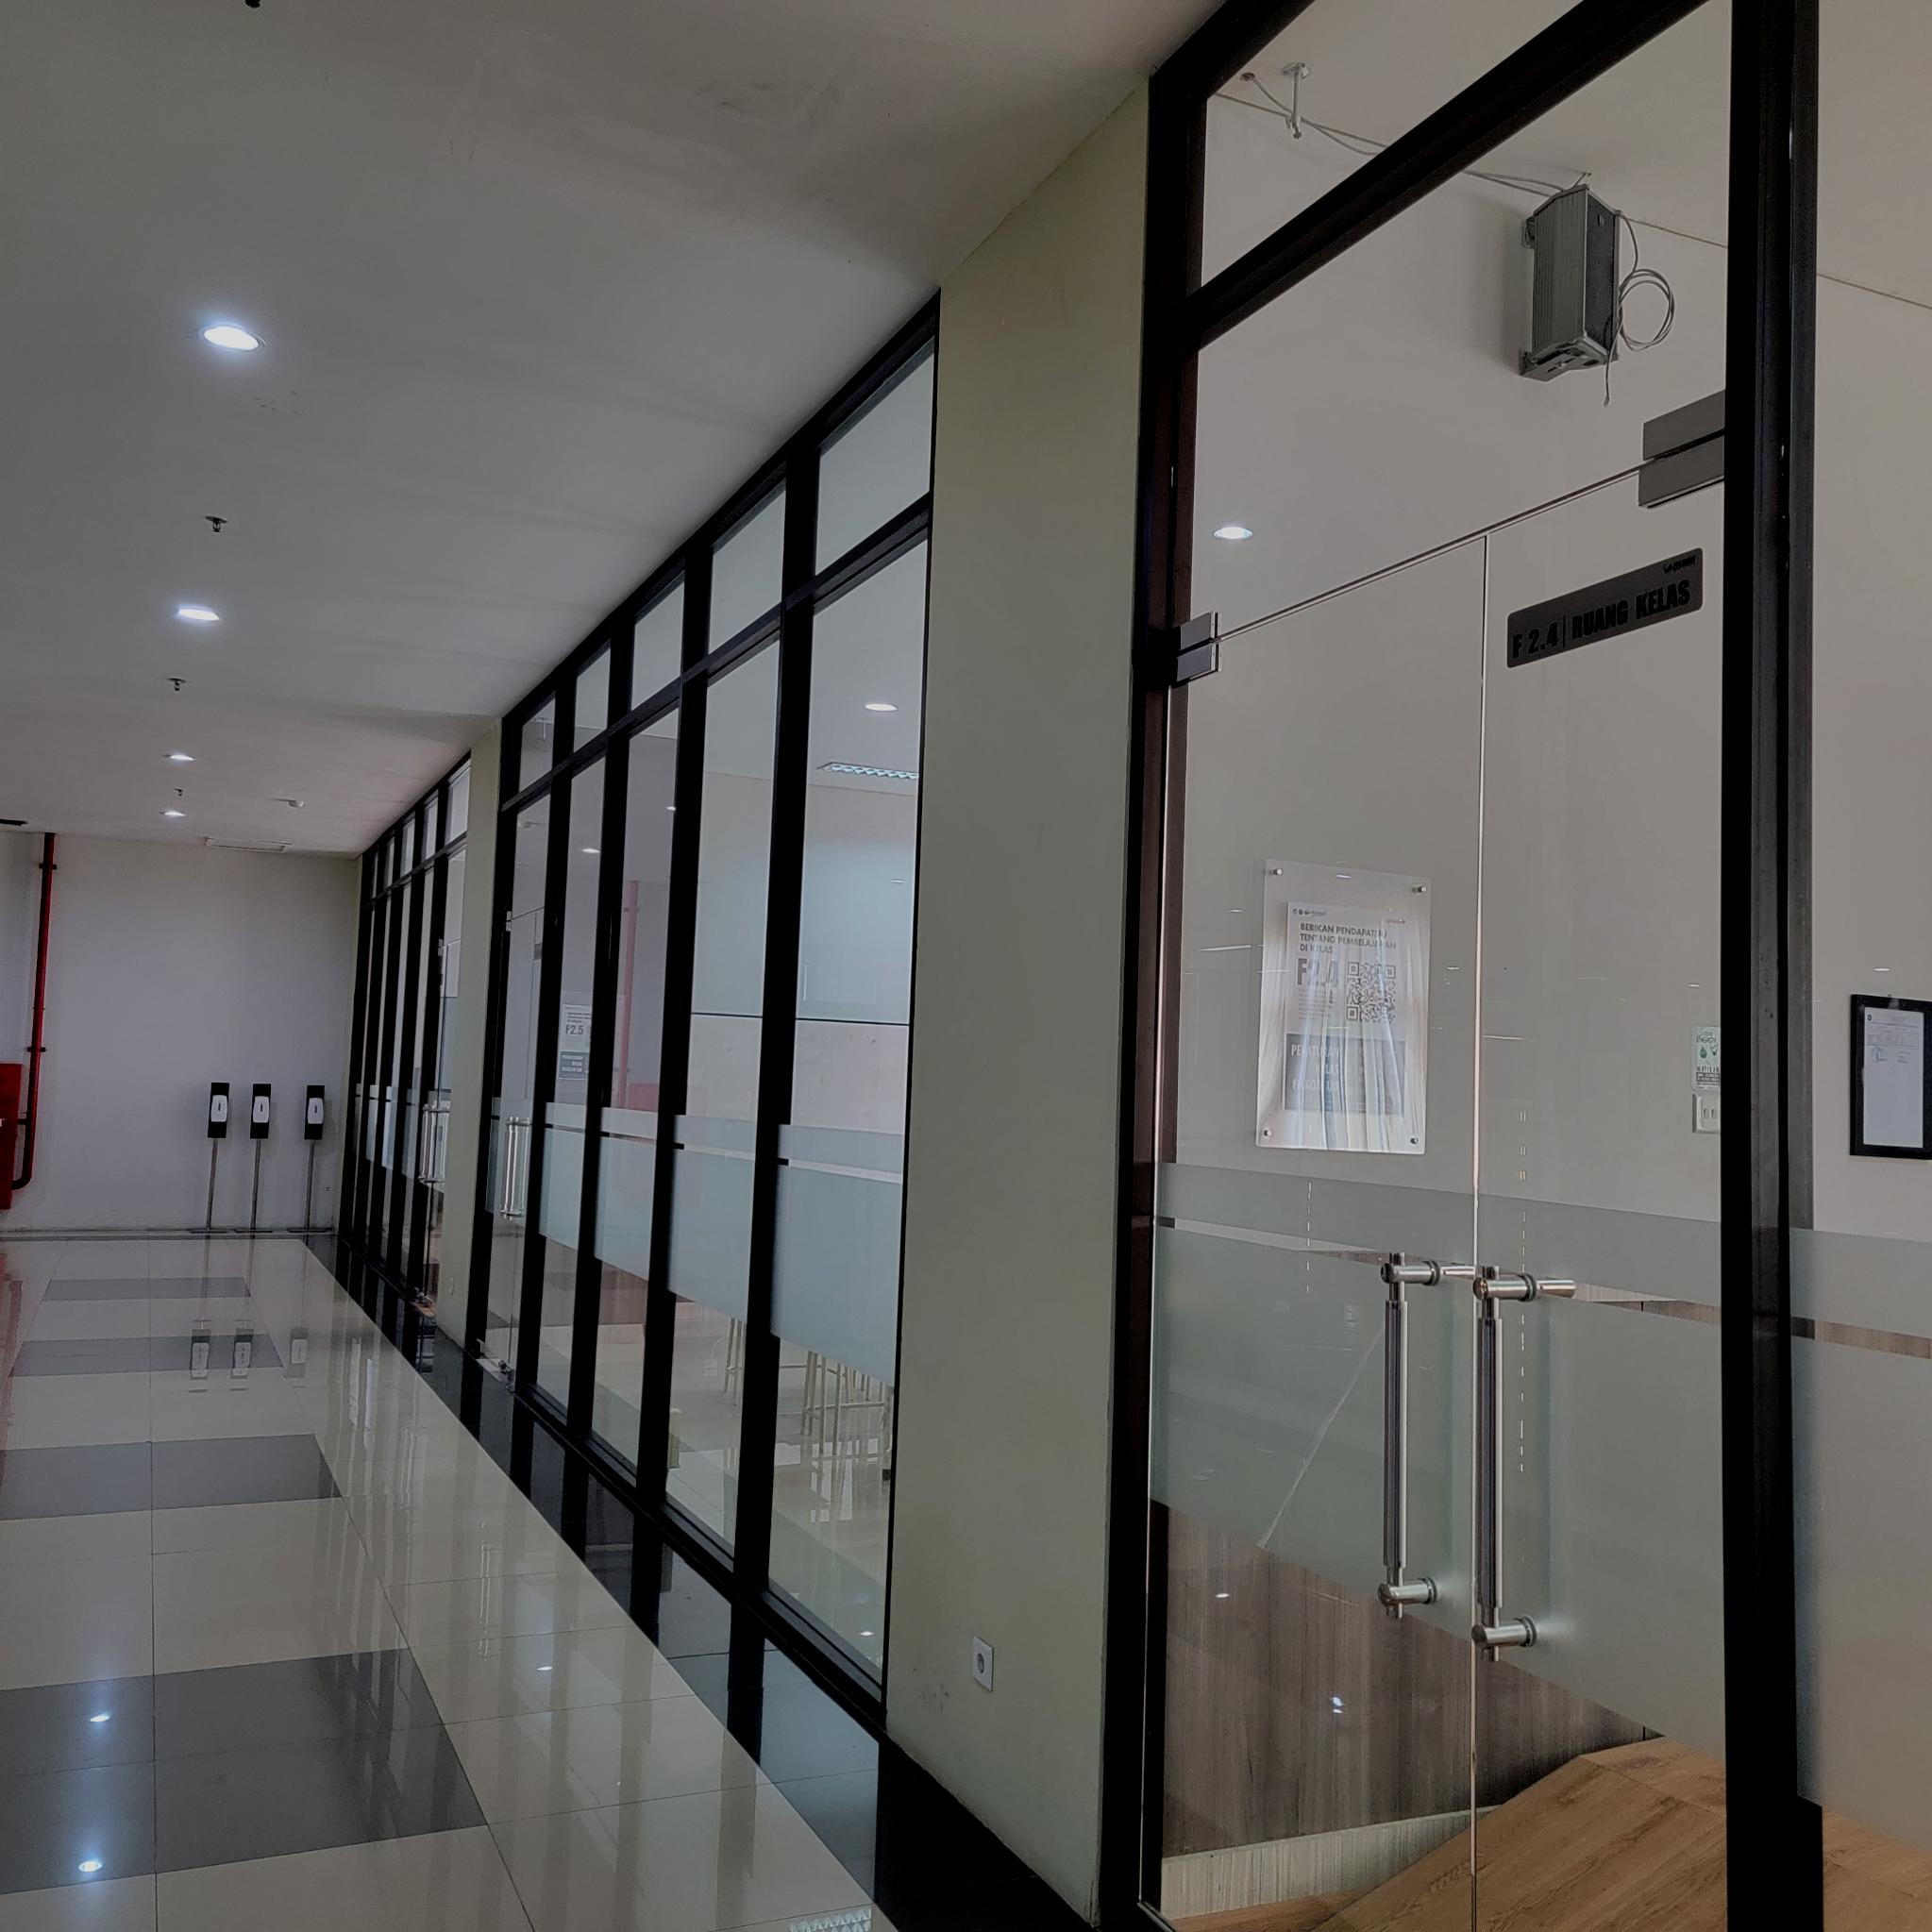plate: (1506, 548, 1702, 669)
